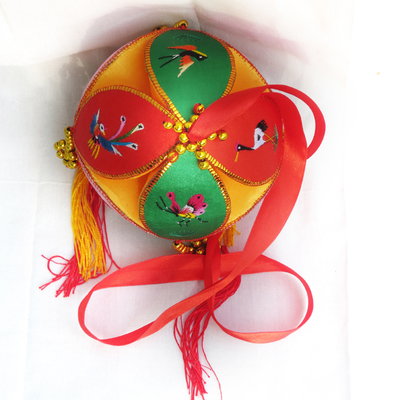xiuqiu: (70, 29, 284, 242)
